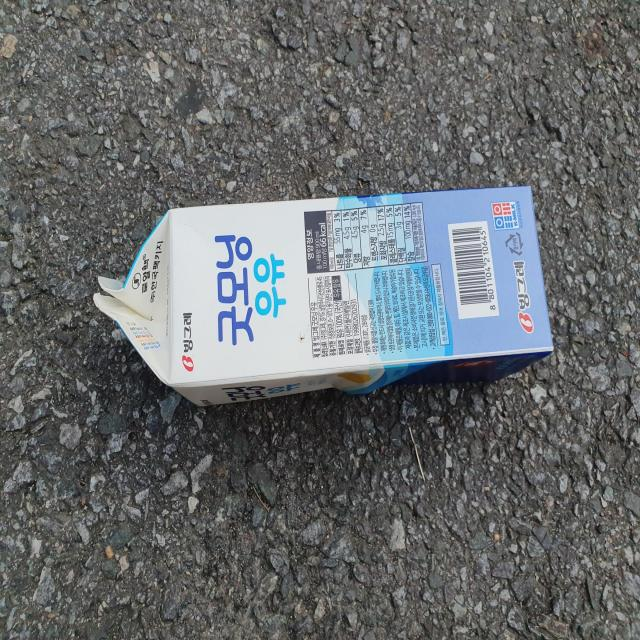paperpack: (93, 186, 554, 406)
